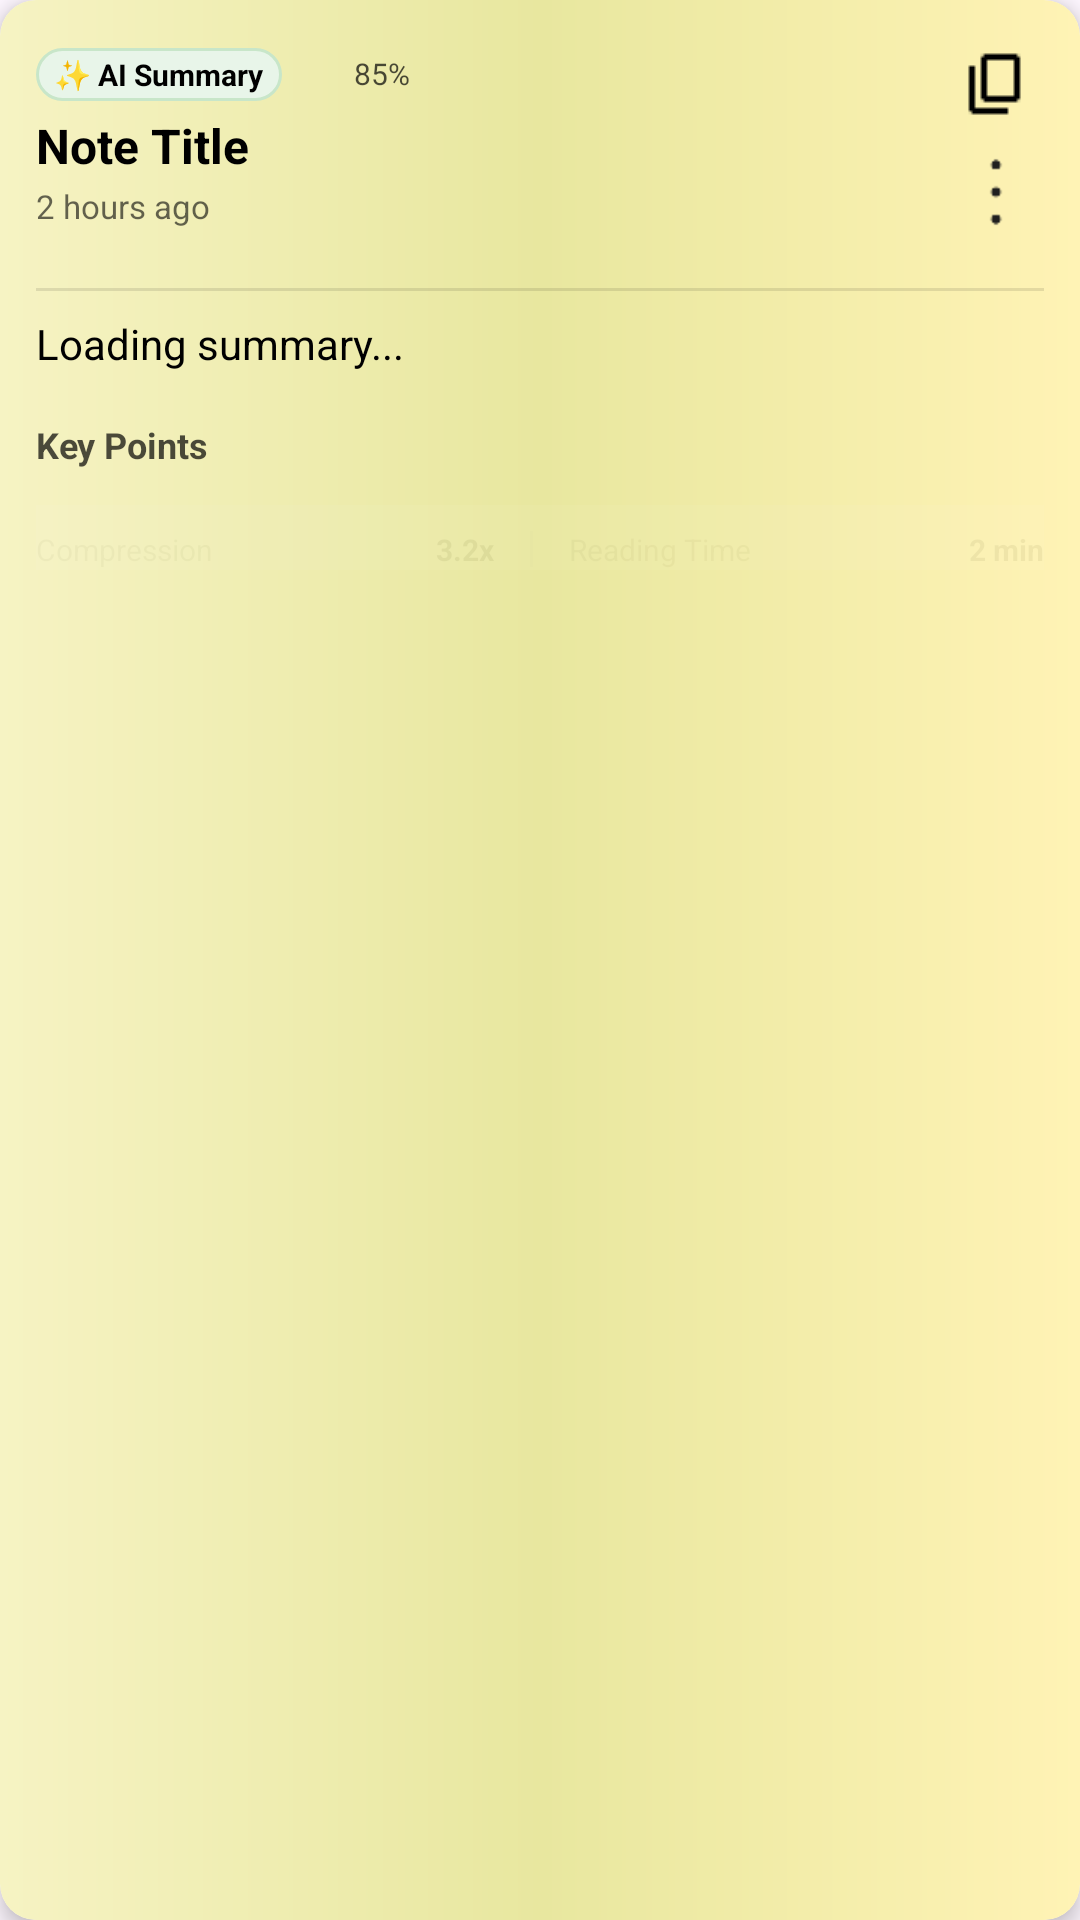

Icon bounding boxes for this 1080px×1920px phone screenshot, format Rect(x1, y1, x2, y2):
Copy summary: Rect(968, 53, 1021, 115)
More options: Rect(990, 159, 1002, 225)
